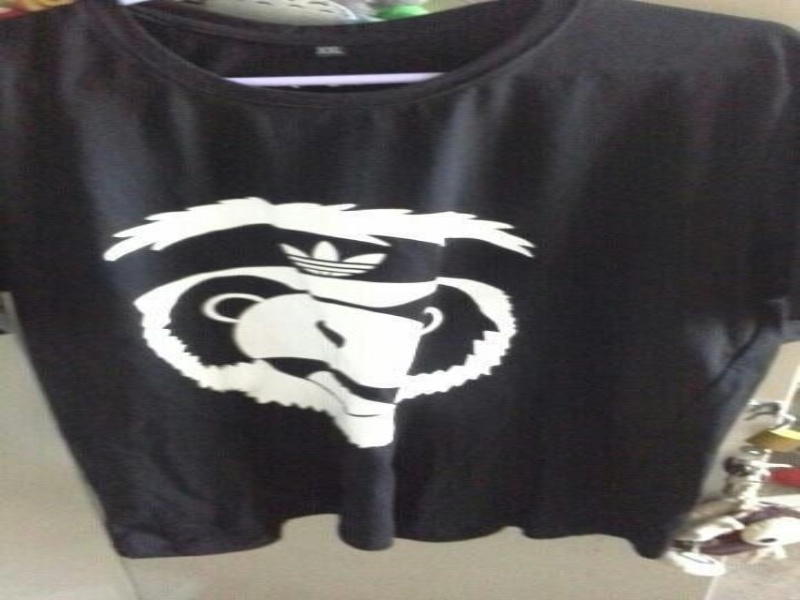short_sleeved_shirt: (0, 0, 793, 560)
